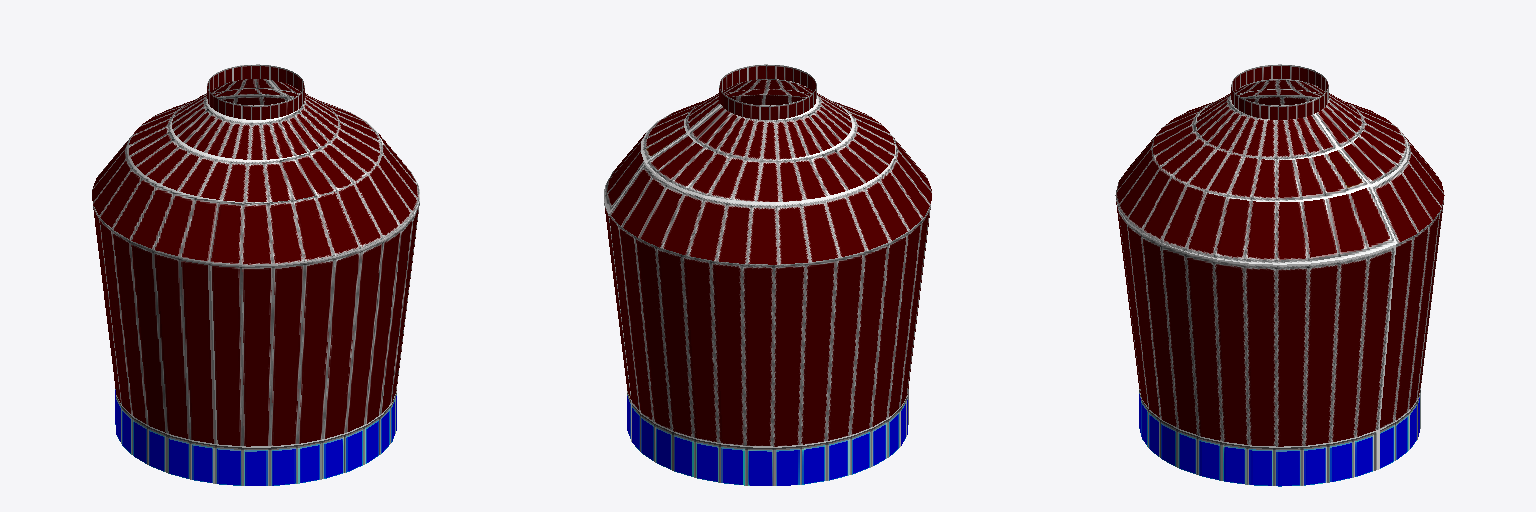
3 views of the same model, side by side, from view 1: azimuth 30°, elevation 25°; view 2: azimuth 150°, elevation 25°; view 3: azimuth 270°, elevation 25° (orthographic).
Visible parts, largest first — view 1: Circle; view 2: Circle; view 3: Circle.
Boxes of the visible parts, x1=… form: Circle: x1=92, y1=64, x2=419, y2=485; Circle: x1=604, y1=64, x2=931, y2=485; Circle: x1=1115, y1=64, x2=1444, y2=486.
Bounding box in the file's own units: 1.79 × 2.05 × 1.79.
1 materials, 1 textured.